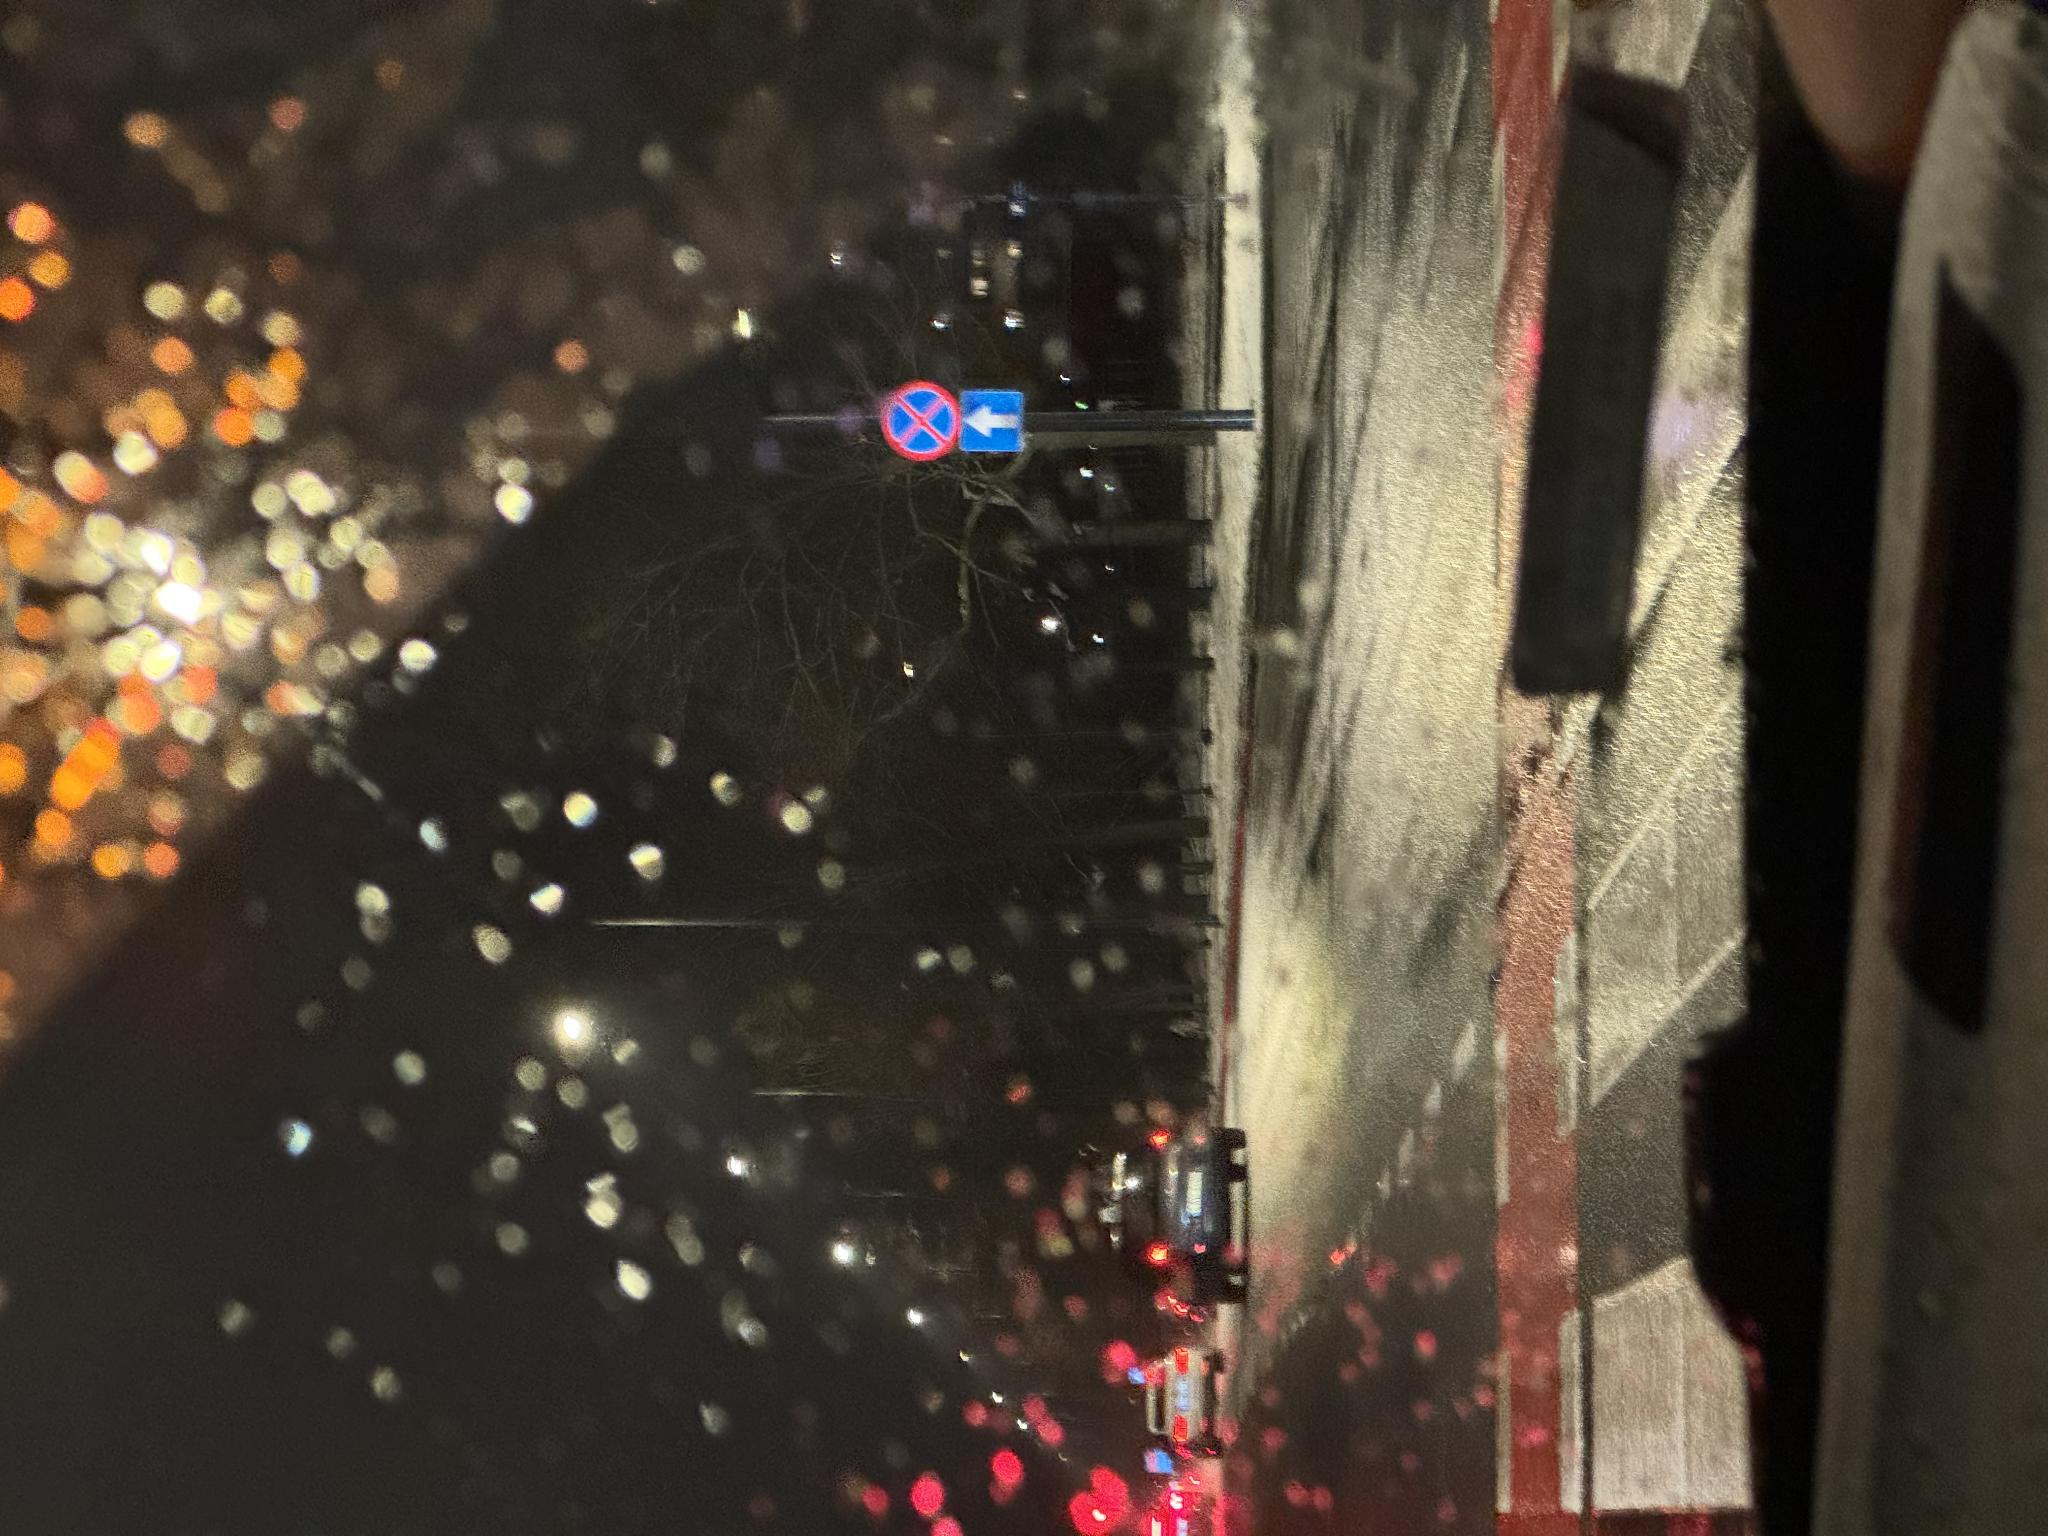information: (1084, 958, 1148, 1024)
prohibitory: (1074, 876, 1156, 962)
